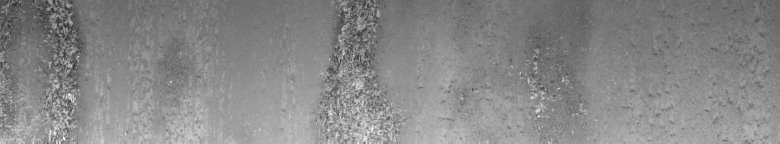hc: (4, 4, 80, 135)
